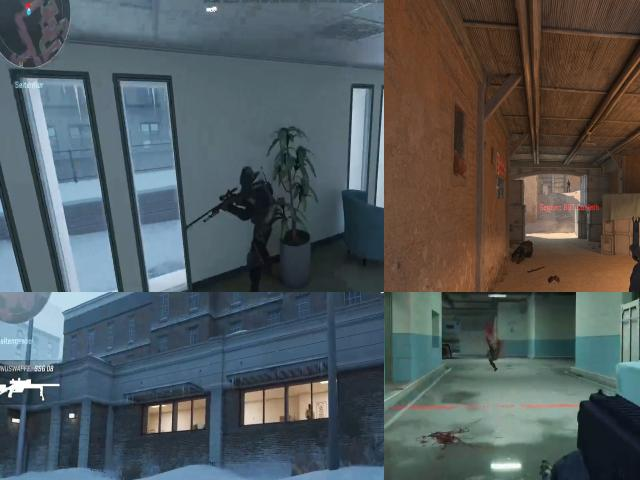CT: (232, 167, 278, 246), (567, 180, 570, 192)
CT-Head: (241, 165, 257, 193), (568, 180, 569, 182)
Dead: (484, 334, 506, 373), (511, 241, 535, 266)
T: (305, 403, 312, 419)
T-Head: (306, 402, 312, 409)
